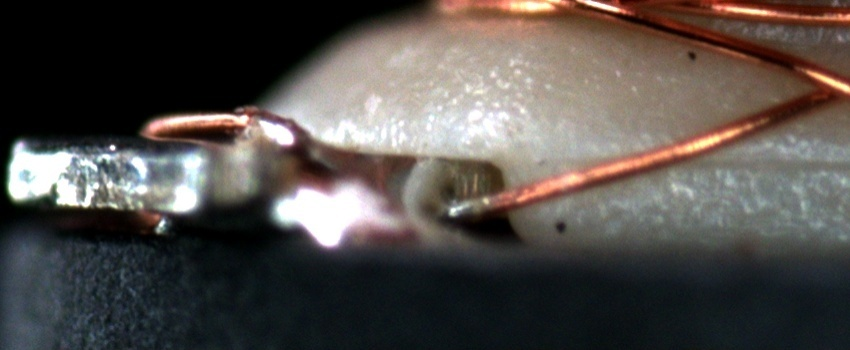CL: (791, 60, 850, 112)
DL: (561, 130, 850, 191)
TE: (132, 101, 305, 149)
